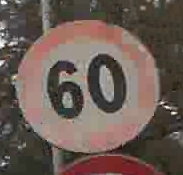limite 60: (12, 16, 168, 157)
